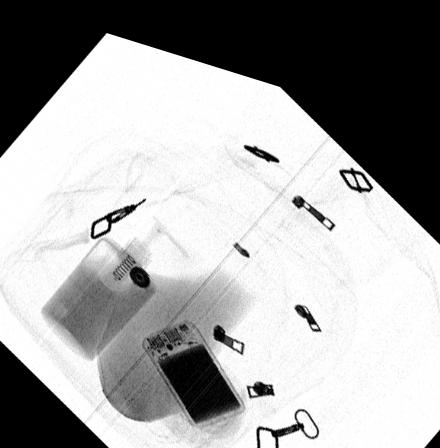Powerbank: (143, 305, 246, 416)
